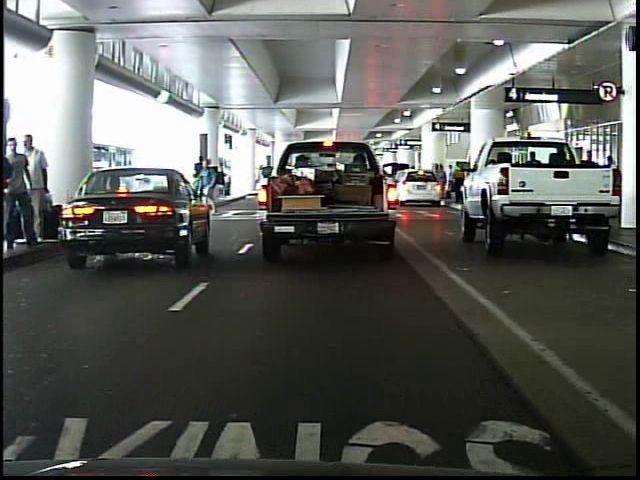person: (25, 133, 53, 249), (5, 136, 29, 253), (200, 152, 222, 208)
